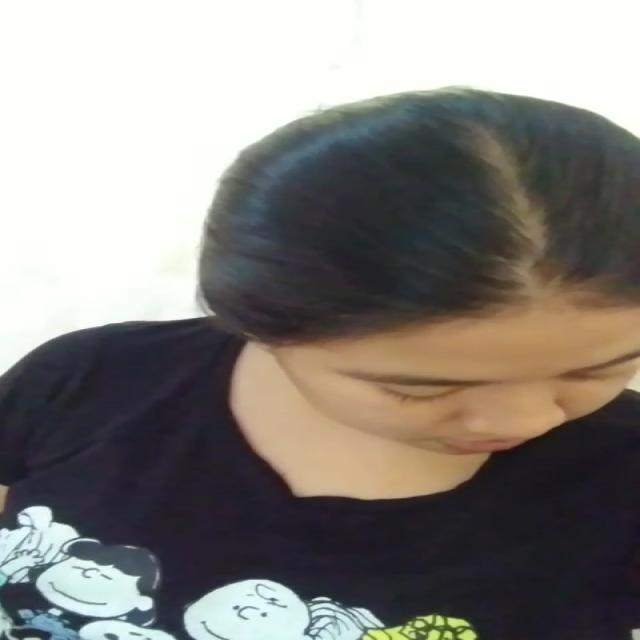9_cabeza_baja: (197, 88, 640, 456)
